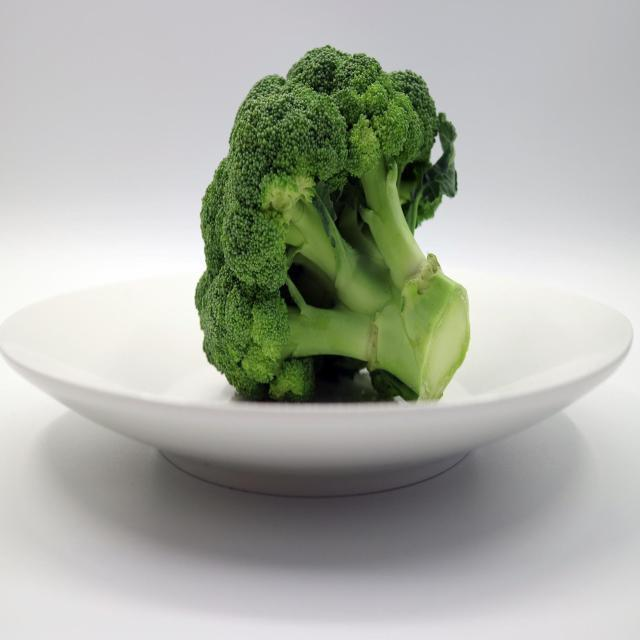broccoli: (188, 38, 472, 404)
